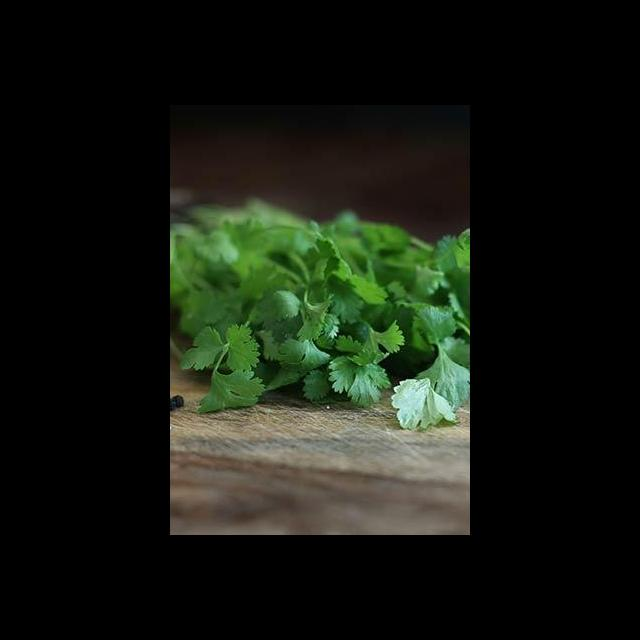cilantro: (170, 199, 469, 430)
